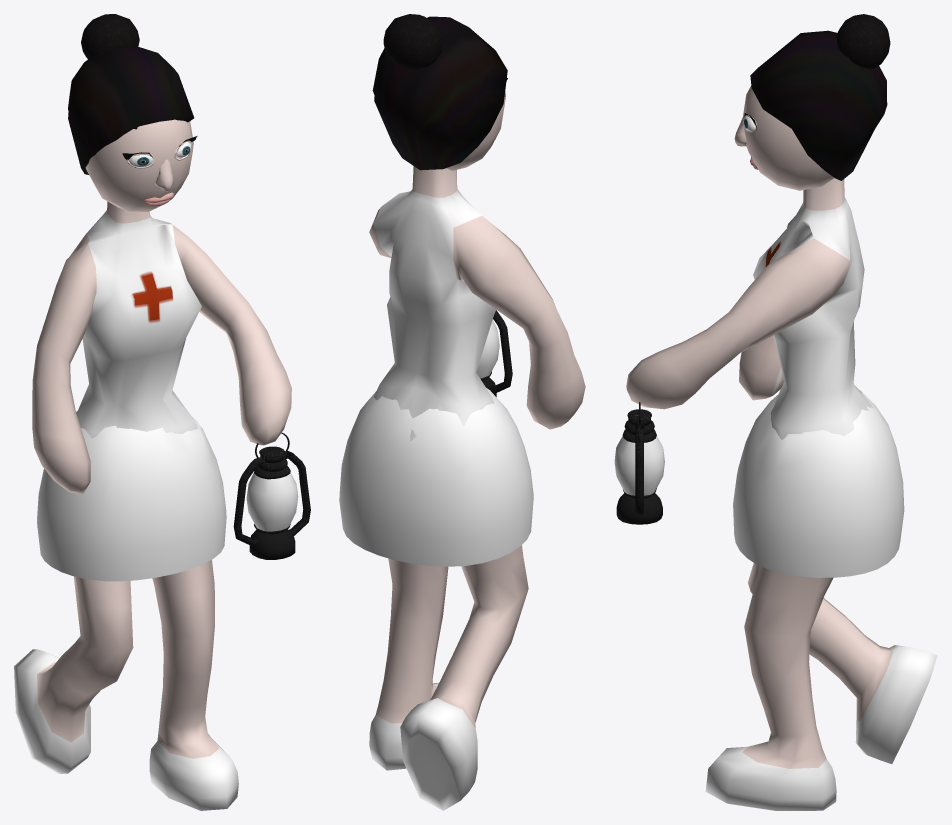
File: walking_000004.obj
The picture shows the model from 3 angles, left to right: view 1: azimuth 30°, elevation 25°; view 2: azimuth 150°, elevation 25°; view 3: azimuth 270°, elevation 25°; orthographic projection. The views are drawn at different scales.
Parts seen in each view (by area): view 1: Cube_Cube.001, Cube.001_Cube, Cube.004; view 2: Cube_Cube.001, Cube.001_Cube, Cube.004; view 3: Cube_Cube.001, Cube.001_Cube, Cube.004.
Boxes of the visible parts, bbox=[...] form: Cube_Cube.001: bbox=[14, 14, 291, 810]; Cube.001_Cube: bbox=[37, 411, 226, 581]; Cube.004: bbox=[233, 432, 310, 559]; Cube_Cube.001: bbox=[369, 14, 585, 810]; Cube.001_Cube: bbox=[339, 388, 533, 566]; Cube.004: bbox=[476, 310, 512, 396]; Cube_Cube.001: bbox=[626, 14, 937, 810]; Cube.001_Cube: bbox=[733, 390, 904, 577]; Cube.004: bbox=[614, 402, 664, 524].
Bounding box in the file's own units: 0.5941 × 2.08 × 0.7938.
